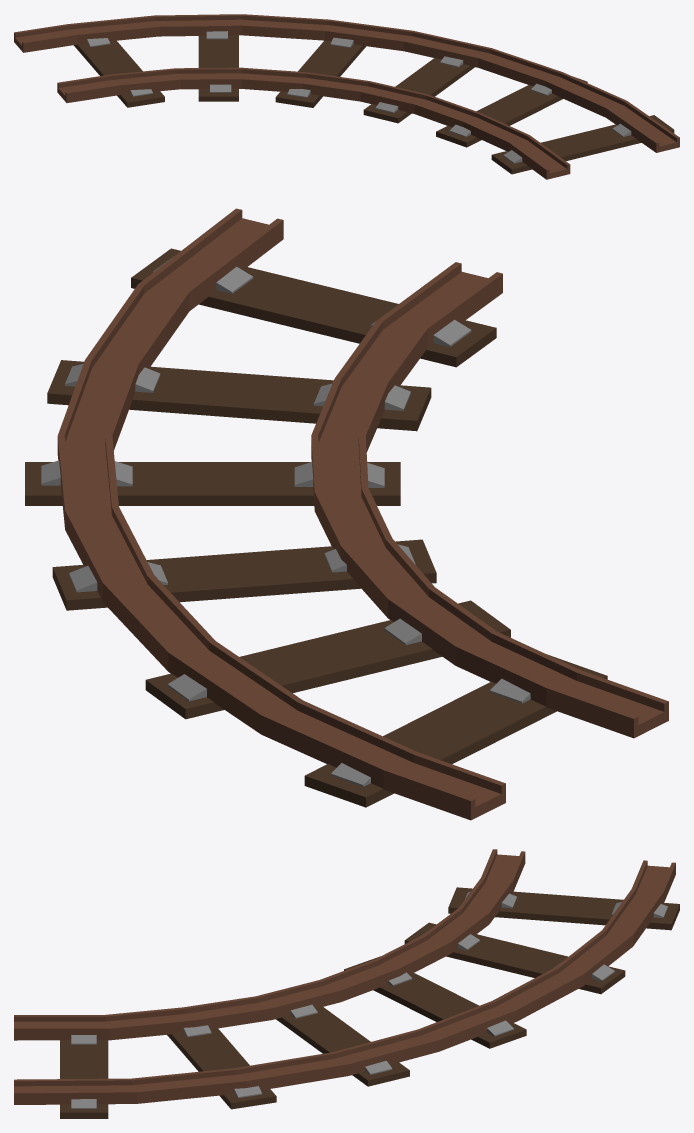
The model's file is Rail mine 3.fbx.
The picture shows the model from 3 angles, top to bottom: view 1: azimuth 30°, elevation 25°; view 2: azimuth 150°, elevation 25°; view 3: azimuth 270°, elevation 25°; orthographic projection. The views are drawn at different scales.
Visible parts, largest first — view 1: rail droite 1, planche rail 3.015, planche rail 3.014, planche rail 3.013, planche rail 3.012, planche rail 3.010, planche rail 3.011; view 2: rail droite 1, planche rail 3.014, planche rail 3.013, planche rail 3.010, planche rail 3.015, planche rail 3.011, planche rail 3.012; view 3: rail droite 1, planche rail 3.012, planche rail 3.011, planche rail 3.010, planche rail 3.013, planche rail 3.014, planche rail 3.015.
Part boxes in pixels (left/top/right/bottom): rail droite 1: left=14, top=14, right=679, bottom=179; planche rail 3.015: left=491, top=115, right=674, bottom=174; planche rail 3.014: left=436, top=76, right=587, bottom=147; planche rail 3.013: left=363, top=58, right=474, bottom=123; planche rail 3.012: left=73, top=40, right=164, bottom=107; planche rail 3.010: left=275, top=40, right=365, bottom=107; planche rail 3.011: left=198, top=35, right=238, bottom=101; rail droite 1: left=57, top=208, right=668, bottom=820; planche rail 3.014: left=47, top=360, right=431, bottom=431; planche rail 3.013: left=25, top=462, right=400, bottom=505; planche rail 3.010: left=52, top=539, right=436, bottom=610; planche rail 3.015: left=131, top=248, right=496, bottom=367; planche rail 3.011: left=145, top=600, right=510, bottom=719; planche rail 3.012: left=304, top=654, right=607, bottom=807; rail droite 1: left=14, top=849, right=675, bottom=1104; planche rail 3.012: left=448, top=887, right=679, bottom=930; planche rail 3.011: left=404, top=922, right=625, bottom=994; planche rail 3.010: left=344, top=956, right=526, bottom=1048; planche rail 3.013: left=276, top=1006, right=409, bottom=1086; planche rail 3.014: left=167, top=1028, right=276, bottom=1109; planche rail 3.015: left=60, top=1040, right=108, bottom=1118.
Size of the model in its own units: 1411 by 45.54 by 1575.
